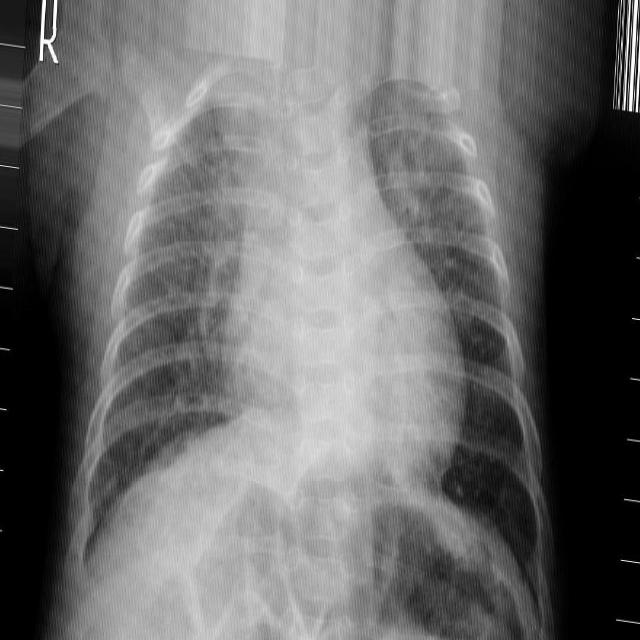viral_pneumonia: (4, 1, 640, 640)
